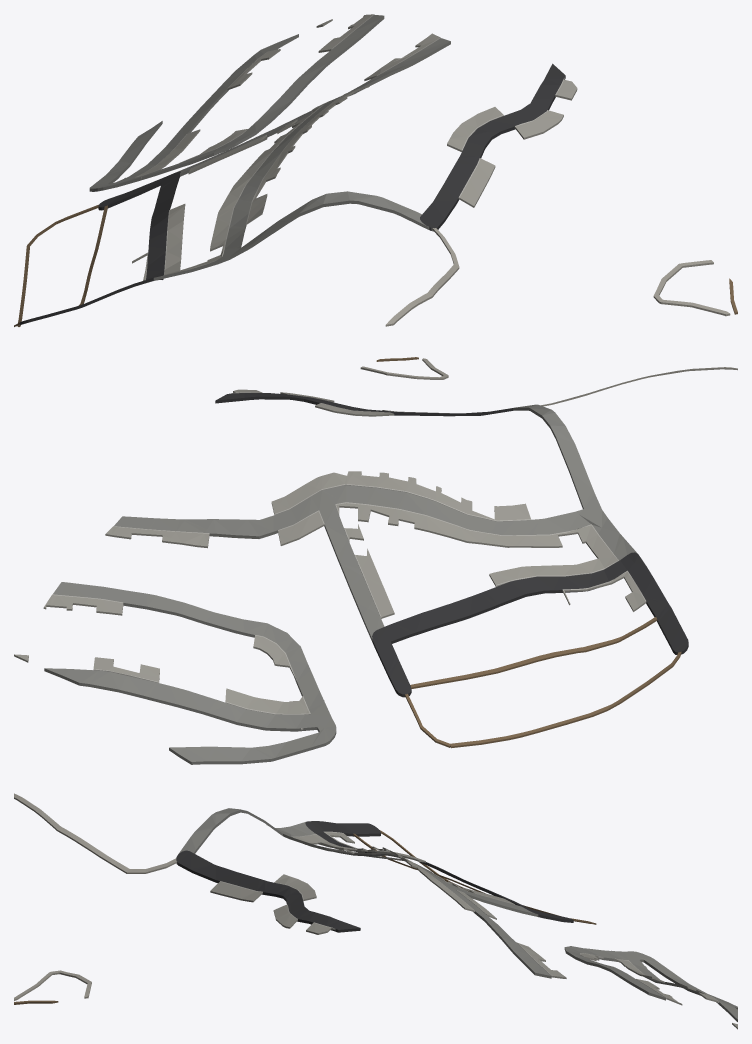
The model's file is 17-109444-59467.8edccf85.glb.
3 renders of one model, top to bottom at view 1: azimuth 30°, elevation 25°; view 2: azimuth 150°, elevation 25°; view 3: azimuth 270°, elevation 25°, orthographic. The views are drawn at different scales.
Bounding box in the file's own units: 209 × 73.44 × 292.
